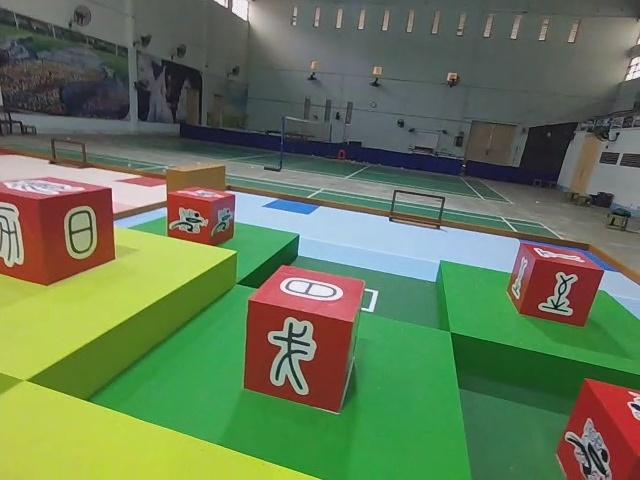R1: (554, 373, 640, 480), (165, 184, 237, 249)
R2 Fake: (242, 260, 369, 415), (0, 173, 117, 287)
R2 Real: (504, 237, 606, 329)
